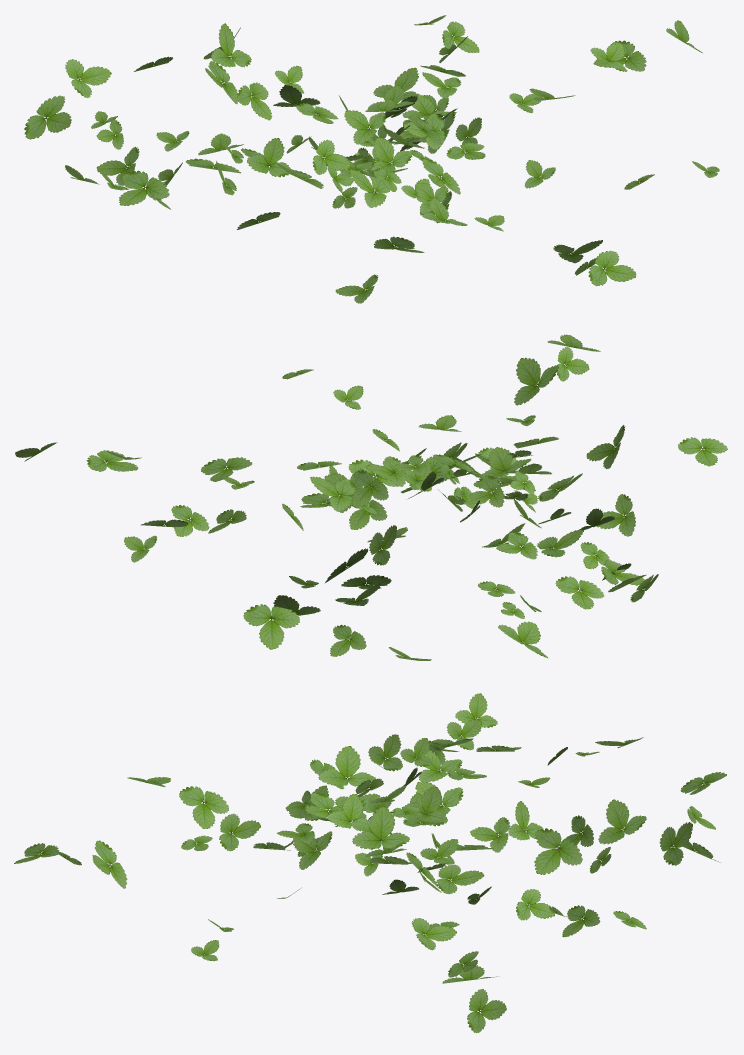
Rendered from strawberryPlant1_lod2.fbx.
3 renders of one model, top to bottom at view 1: azimuth 30°, elevation 25°; view 2: azimuth 150°, elevation 25°; view 3: azimuth 270°, elevation 25°, orthographic. The views are drawn at different scales.
Parts seen in each view (by area): view 1: strawberryPlant1_lod2; view 2: strawberryPlant1_lod2; view 3: strawberryPlant1_lod2.
Part boxes in pixels (x1=…): strawberryPlant1_lod2: x1=24, y1=15, x2=719, y2=303; strawberryPlant1_lod2: x1=15, y1=334, x2=727, y2=660; strawberryPlant1_lod2: x1=14, y1=693, x2=726, y2=1033.
Bounding box in the file's own units: 140 × 16.18 × 140.
